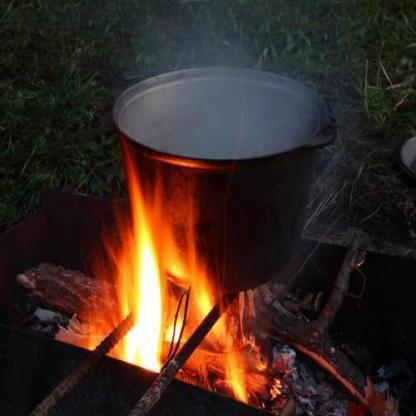fire: (72, 125, 283, 408)
